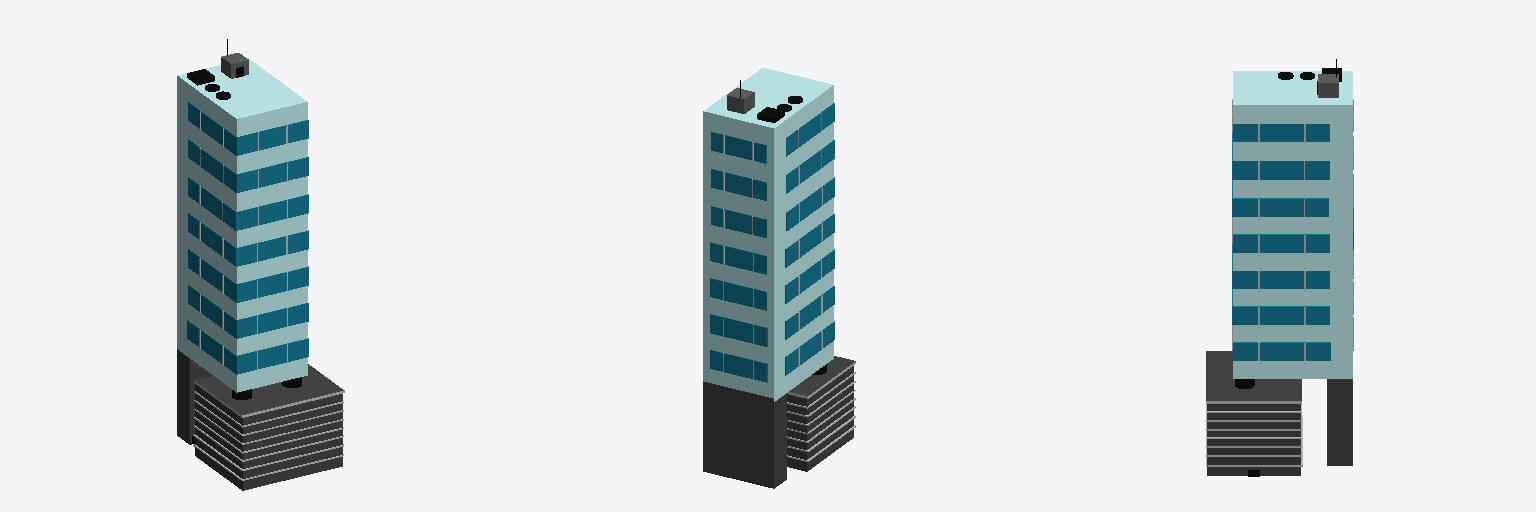
Rendered from bill3_white.obj.
The picture shows the model from 3 angles: view 1: azimuth 30°, elevation 25°; view 2: azimuth 150°, elevation 25°; view 3: azimuth 270°, elevation 25°; orthographic projection.
Visible parts, largest first — view 1: Cube.001; view 2: Cube.001; view 3: Cube.001.
Boxes of the visible parts, box(x1,y1,x2,y2) form: Cube.001: box(177, 39, 344, 490); Cube.001: box(703, 68, 855, 488); Cube.001: box(1206, 59, 1353, 476).
Size of the model in its own units: 11.58 by 42.27 by 14.51.